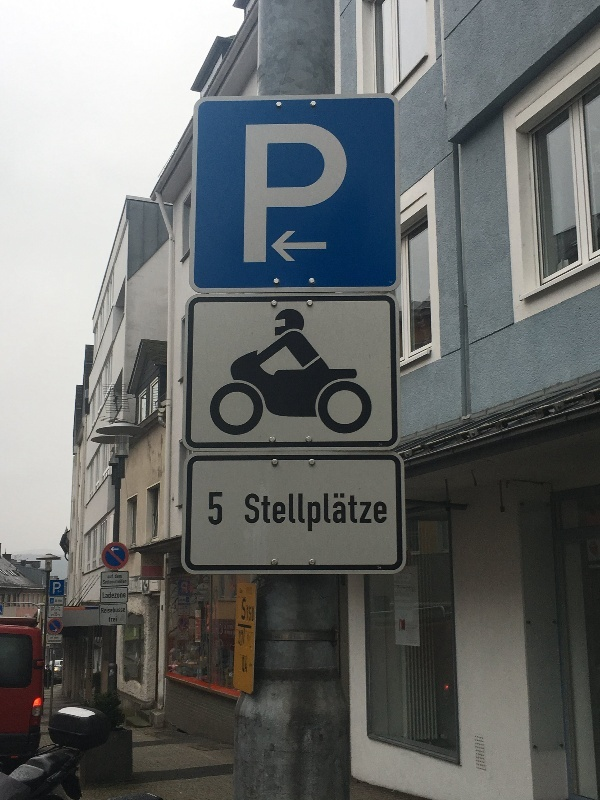text: (257, 491, 272, 535), (273, 491, 288, 535), (289, 491, 304, 535), (305, 491, 320, 535), (321, 491, 336, 535), (337, 491, 352, 535), (353, 491, 368, 535), (369, 491, 384, 535), (209, 489, 224, 528), (244, 491, 256, 535), (242, 597, 256, 622), (242, 656, 256, 676), (181, 581, 192, 596), (225, 623, 236, 638), (53, 581, 64, 595), (247, 606, 256, 623), (51, 606, 64, 617), (179, 605, 192, 616), (385, 491, 388, 535), (246, 586, 256, 597), (113, 606, 126, 614), (113, 592, 126, 599), (101, 606, 112, 614), (113, 579, 127, 585), (115, 574, 128, 579), (103, 592, 112, 599), (220, 623, 224, 638), (241, 630, 244, 648), (103, 579, 112, 585), (49, 639, 62, 643), (51, 636, 64, 639), (55, 599, 64, 603), (238, 630, 240, 648), (113, 616, 118, 623), (54, 636, 64, 639), (108, 616, 112, 623), (58, 599, 64, 603), (241, 587, 244, 595), (108, 574, 112, 579), (239, 587, 240, 595)
